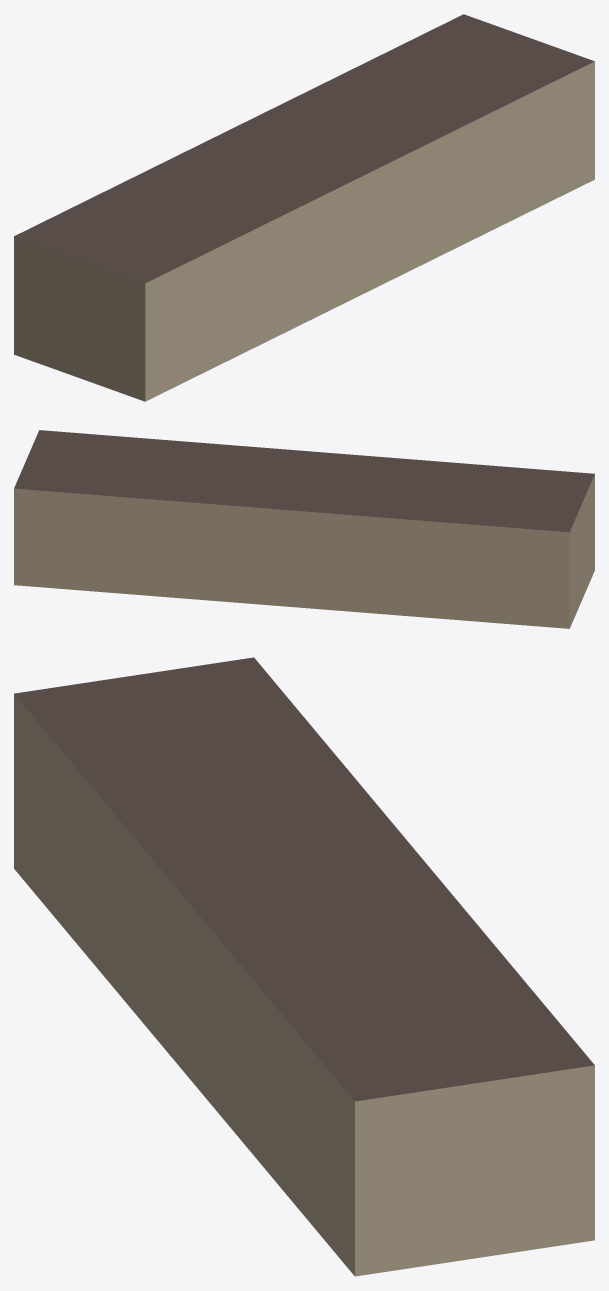
The picture shows the model from 3 angles, top to bottom: view 1: azimuth 30°, elevation 25°; view 2: azimuth 150°, elevation 25°; view 3: azimuth 270°, elevation 25°; orthographic projection. The views are drawn at different scales.
Visible parts, largest first — view 1: HP-w859457474; view 2: HP-w859457474; view 3: HP-w859457474.
Boxes of the visible parts, left/top/right/bottom form: HP-w859457474: left=14, top=14, right=594, bottom=401; HP-w859457474: left=14, top=430, right=594, bottom=628; HP-w859457474: left=14, top=657, right=594, bottom=1276.
Bounding box in the file's own units: 48.98 × 9 × 27.08.
